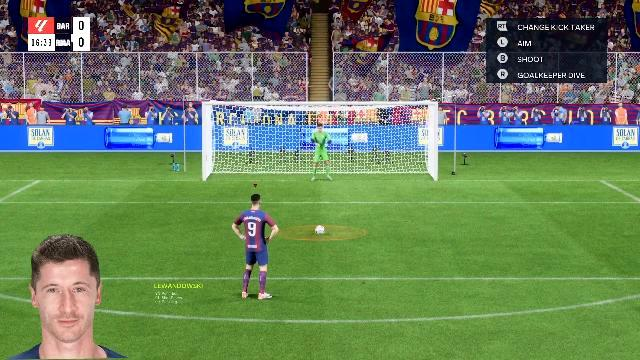bottom-left: (206, 149, 286, 181)
bottom-right: (361, 148, 433, 180)
center-down: (286, 148, 360, 180)
center-up: (290, 105, 358, 146)
circle: (273, 226, 369, 242)
football: (313, 228, 327, 234)
goalkeeper: (302, 125, 346, 183)
player: (232, 196, 284, 302)
top-left: (205, 105, 288, 146)
top-right: (360, 105, 434, 146)
